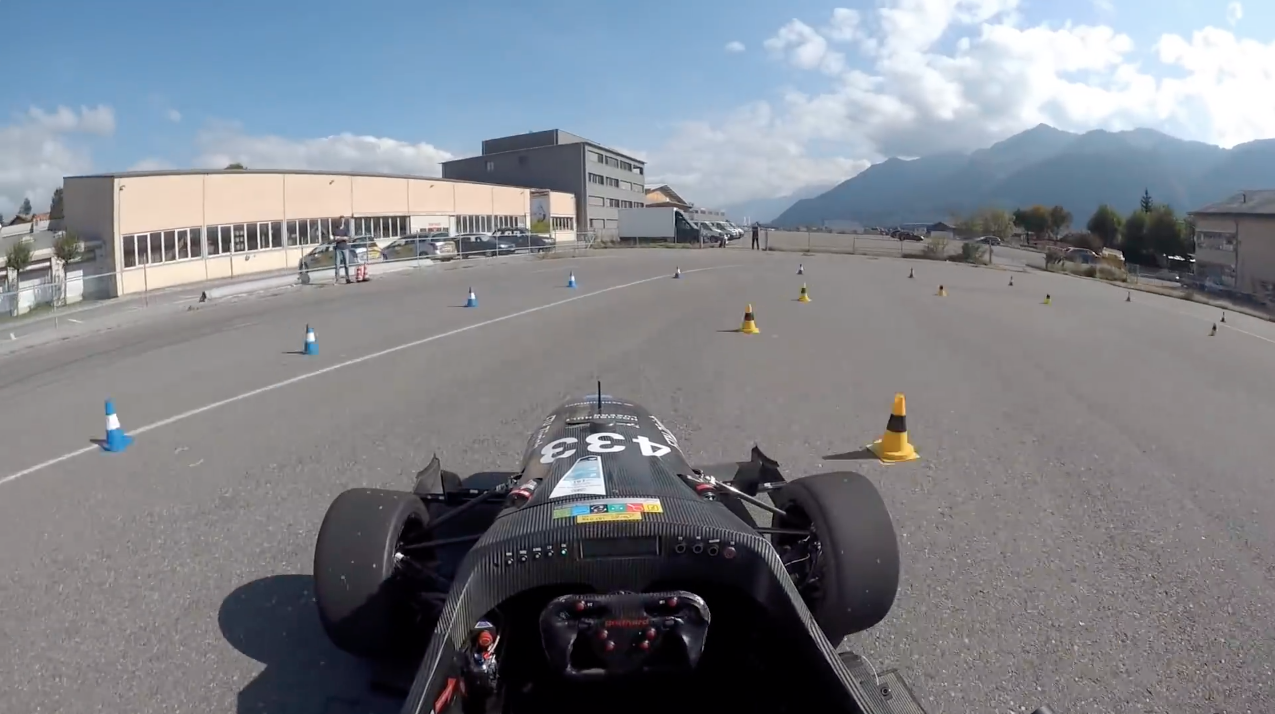lcone: (93, 398, 136, 459), (296, 318, 330, 362), (462, 285, 479, 312)
rcone: (862, 387, 926, 470), (737, 302, 765, 338)
